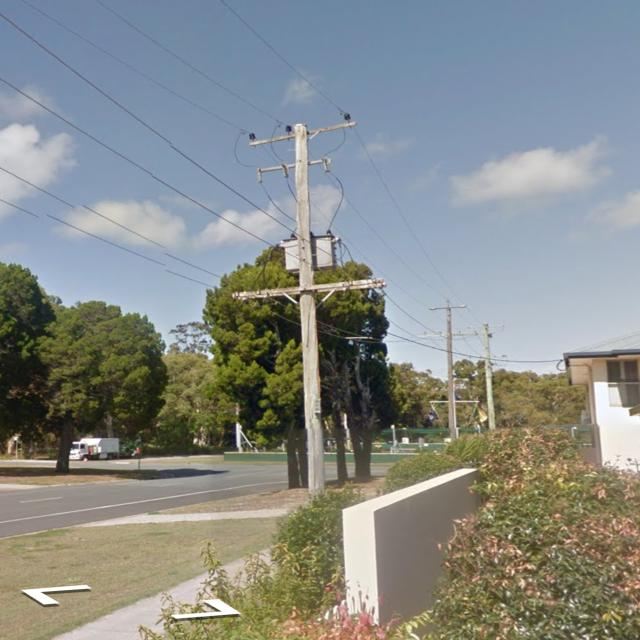HV-transmission: (249, 114, 351, 184), (428, 299, 468, 311)
crossarm: (231, 278, 384, 298), (248, 120, 358, 147), (246, 282, 386, 299), (258, 157, 333, 171), (417, 332, 479, 338), (468, 325, 506, 329), (434, 306, 460, 310)
timber-pole: (293, 123, 327, 494), (446, 299, 458, 441), (482, 322, 496, 430)
transformer: (279, 229, 338, 270)
